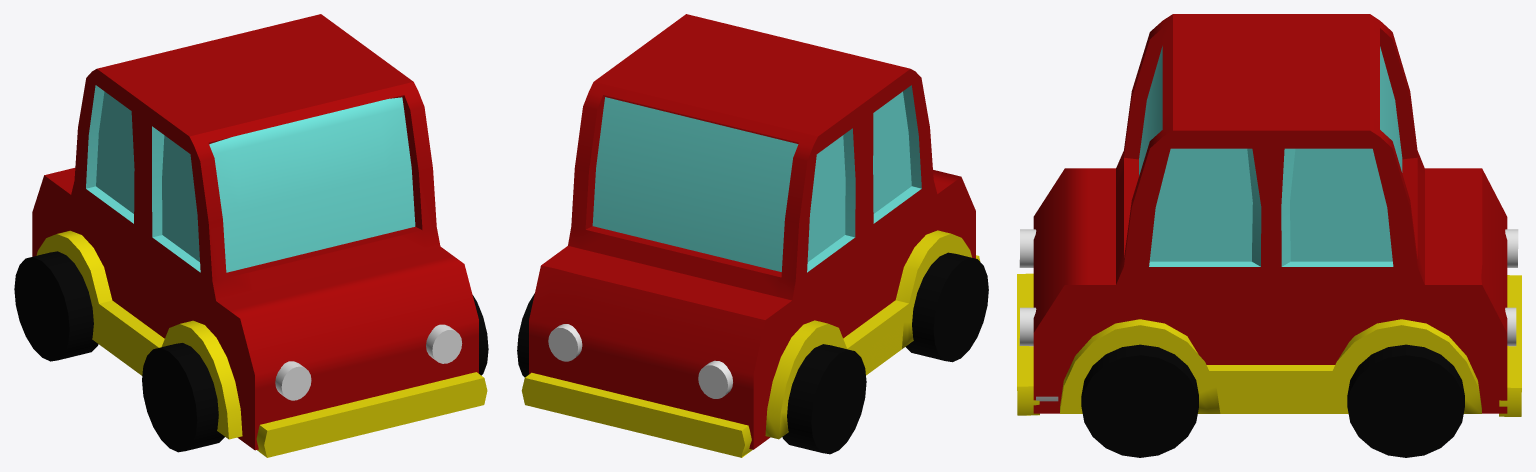
The model's file is sketchfab.fbx.
3 views of the same model, side by side, from view 1: azimuth 30°, elevation 25°; view 2: azimuth 150°, elevation 25°; view 3: azimuth 270°, elevation 25° (orthographic). The views are drawn at different scales.
Visible parts, largest first — view 1: pCube1, pasted__pPipe3, pasted__polySurface6, pasted__pasted__pCylinder3 (×2), pasted__pCylinder3, polySurface4; view 2: pCube1, pasted__pPipe3, polySurface6, pasted__pCylinder3, pasted__pasted__pCylinder3, polySurface3, pCylinder3; view 3: pCube1, pasted__pasted__pPipe3, pCylinder3, pasted__pasted__pCylinder3, pasted__polySurface6, polySurface6, polySurface4, polySurface3.
Part boxes in pixels (left/top/right/bottom): pCube1: left=32, top=14, right=478, bottom=450; pasted__pPipe3: left=36, top=230, right=242, bottom=439; pasted__polySurface6: left=256, top=372, right=487, bottom=457; pasted__pasted__pCylinder3 (×2): left=142, top=295, right=488, bottom=452; pasted__pCylinder3: left=14, top=251, right=98, bottom=361; polySurface4: left=275, top=324, right=462, bottom=400; pCube1: left=529, top=14, right=975, bottom=449; pasted__pPipe3: left=765, top=230, right=971, bottom=439; polySurface6: left=521, top=372, right=752, bottom=457; pasted__pCylinder3: left=782, top=344, right=866, bottom=454; pasted__pasted__pCylinder3: left=905, top=252, right=988, bottom=362; polySurface3: left=548, top=324, right=732, bottom=398; pCylinder3: left=517, top=293, right=534, bottom=377; pCube1: left=1033, top=14, right=1507, bottom=413; pasted__pasted__pPipe3: left=1060, top=319, right=1481, bottom=413; pCylinder3: left=1347, top=344, right=1464, bottom=457; pasted__pasted__pCylinder3: left=1081, top=344, right=1198, bottom=457; pasted__polySurface6: left=1017, top=273, right=1039, bottom=415; polySurface6: left=1499, top=275, right=1521, bottom=416; polySurface4: left=1019, top=229, right=1036, bottom=346; polySurface3: left=1505, top=229, right=1518, bottom=346.
Bounding box in the file's own units: 2.42 × 2.3 × 3.38.
